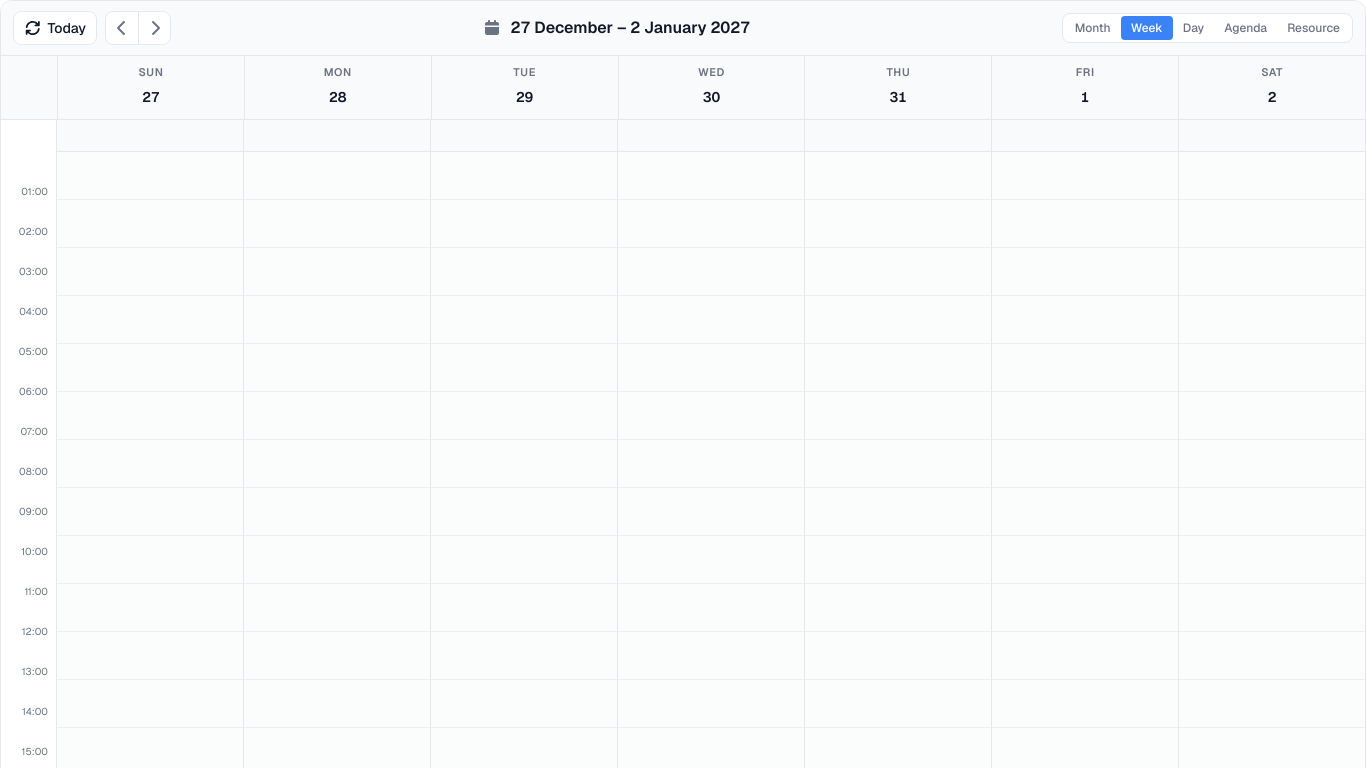
it: <Calendar /> views › pages a week at a time in the week view
The image size is (1366, 768).
Expected: the heading reads "27 December – 2 January 2027", [510,17,750,38]
Click the button named "Next" at [154, 28], box [138,12,170,44]
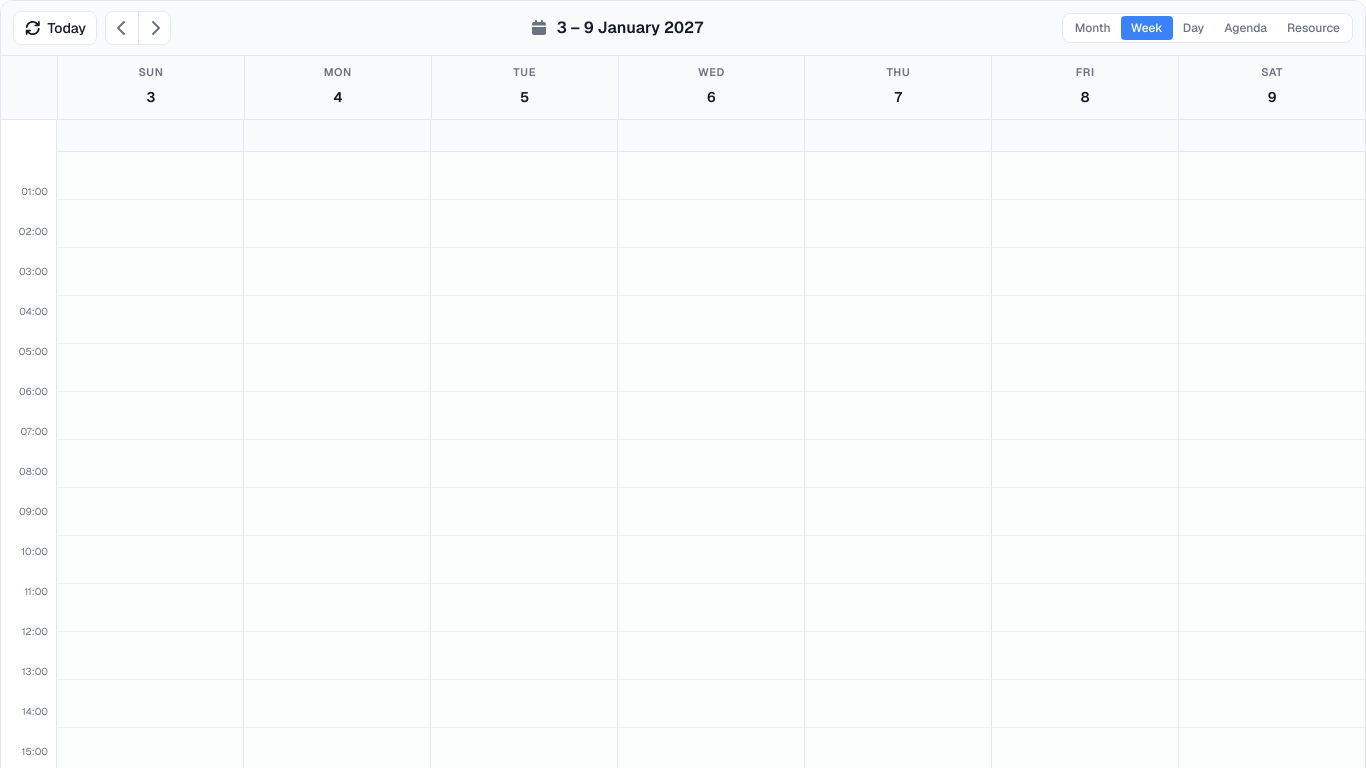
Expected: the heading reads "3 – 9 January 2027", [557,17,704,38]
